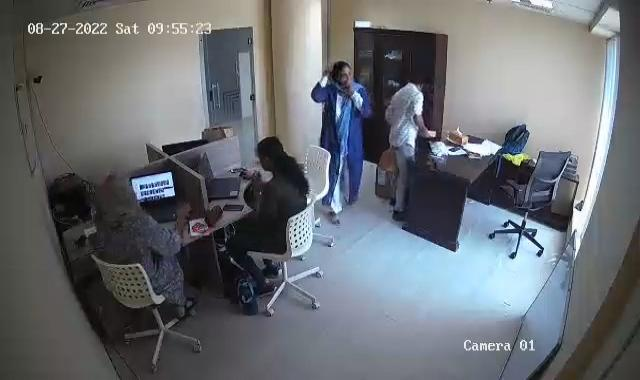no_hairnet: (99, 176, 133, 222), (255, 136, 287, 169), (328, 57, 352, 94), (407, 72, 428, 95)
